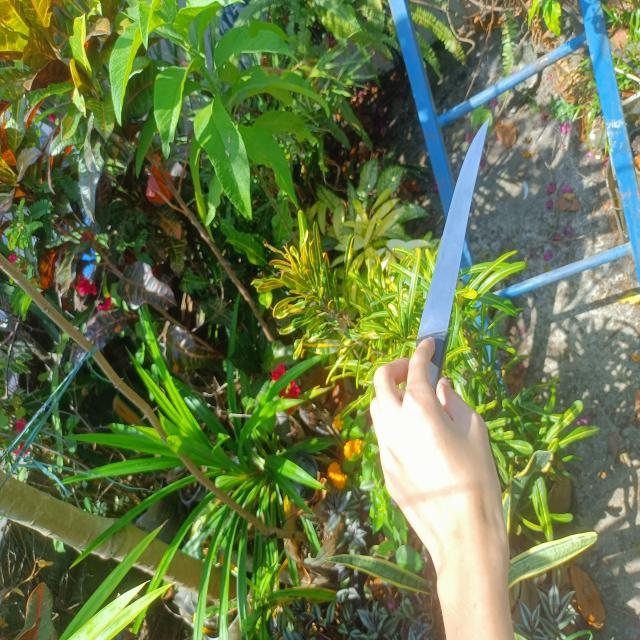knife: (415, 118, 489, 391)
